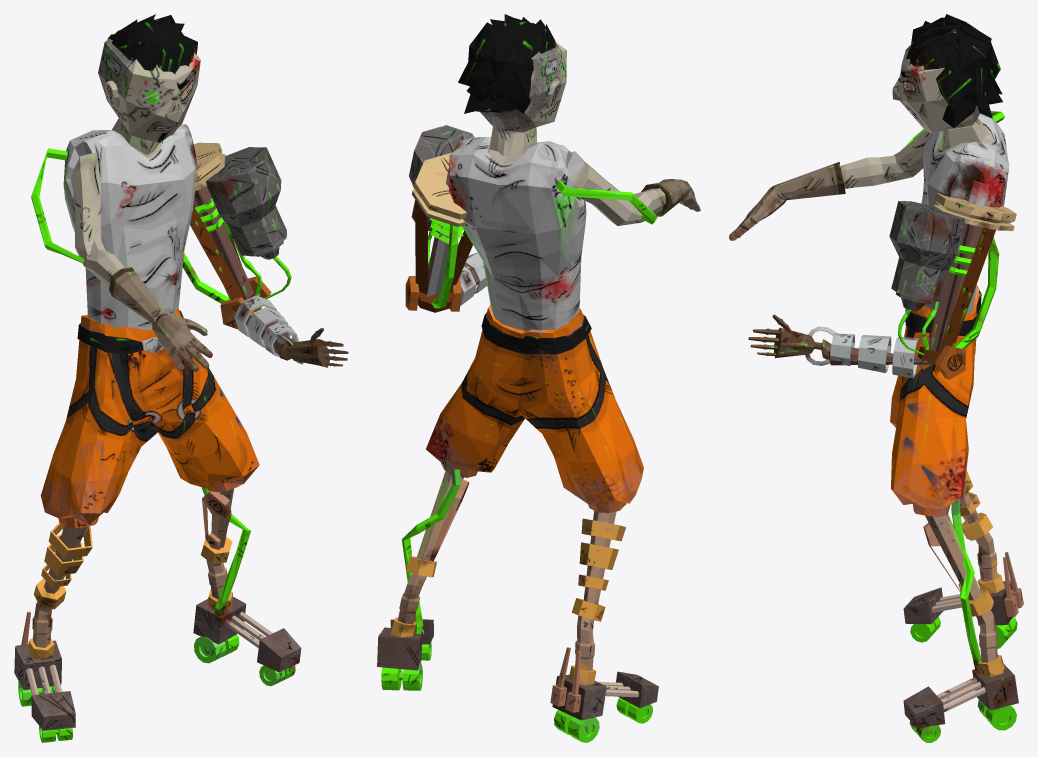
File: CyborgFINALAnimation_000016.obj
The picture shows the model from 3 angles, left to right: view 1: azimuth 30°, elevation 25°; view 2: azimuth 150°, elevation 25°; view 3: azimuth 270°, elevation 25°; orthographic projection. The views are drawn at different scales.
Parts seen in each view (by area): view 1: CyborgMesh_Cube.002; view 2: CyborgMesh_Cube.002; view 3: CyborgMesh_Cube.002.
Boxes of the visible parts, x1=… form: CyborgMesh_Cube.002: x1=14, y1=14, x2=348, y2=742; CyborgMesh_Cube.002: x1=377, y1=14, x2=700, y2=742; CyborgMesh_Cube.002: x1=729, y1=14, x2=1023, y2=742.
Bounding box in the file's own units: 3.78 × 9.59 × 3.84.
